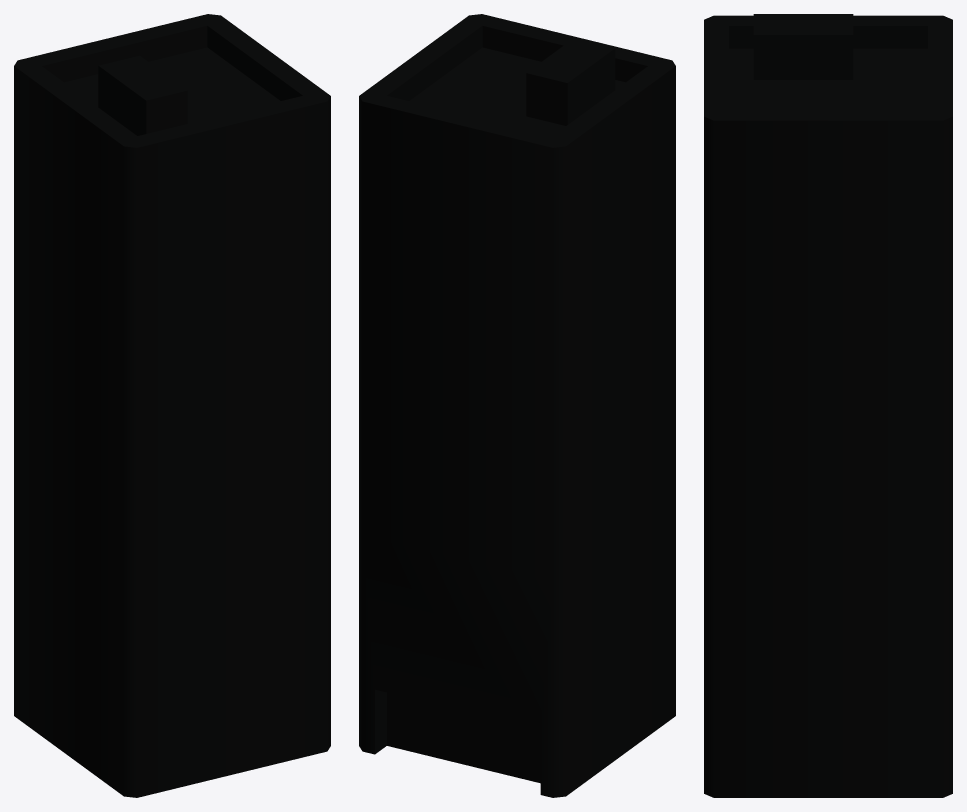
Rendered from low-detail-building-k.glb.
The picture shows the model from 3 angles, left to right: view 1: azimuth 30°, elevation 25°; view 2: azimuth 150°, elevation 25°; view 3: azimuth 270°, elevation 25°; orthographic projection. The views are drawn at different scales.
Parts seen in each view (by area): view 1: low-detail-building-k; view 2: low-detail-building-k; view 3: low-detail-building-k.
Part boxes in pixels (x1,y1,x2,y2): low-detail-building-k: (14,14,330,797); low-detail-building-k: (359,14,675,797); low-detail-building-k: (704,14,952,797).
Bounding box in the file's own units: 0.4998 × 1.55 × 0.4998.
Materials: 1 (1 with a texture image).
